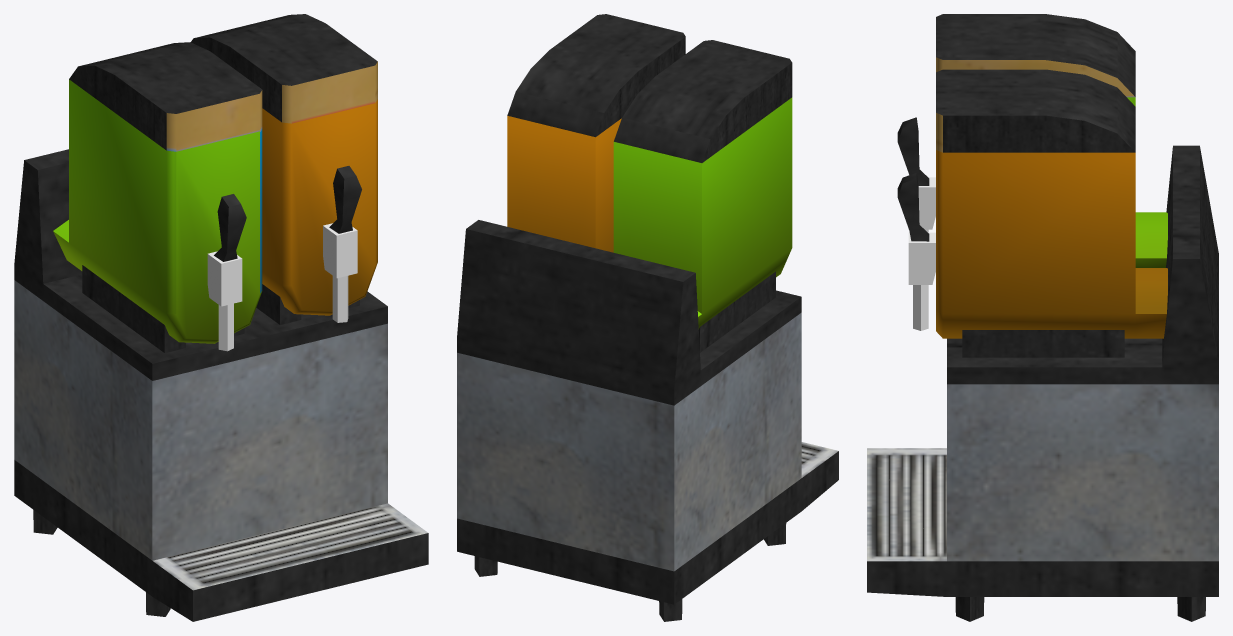
File: gas_ice_slush_machine_2.fbx
3 views of the same model, side by side, from view 1: azimuth 30°, elevation 25°; view 2: azimuth 150°, elevation 25°; view 3: azimuth 270°, elevation 25° (orthographic). The views are drawn at different scales.
Parts seen in each view (by area): view 1: gas_ice_slush_machine_2; view 2: gas_ice_slush_machine_2; view 3: gas_ice_slush_machine_2.
Part boxes in pixels (box(x1,y1,x2,y2)): gas_ice_slush_machine_2: box(14, 14, 428, 621); gas_ice_slush_machine_2: box(457, 14, 838, 621); gas_ice_slush_machine_2: box(867, 14, 1218, 621).
Bounding box in the file's own units: 0.4862 × 1.01 × 0.6382.
1 material, 1 textured.
